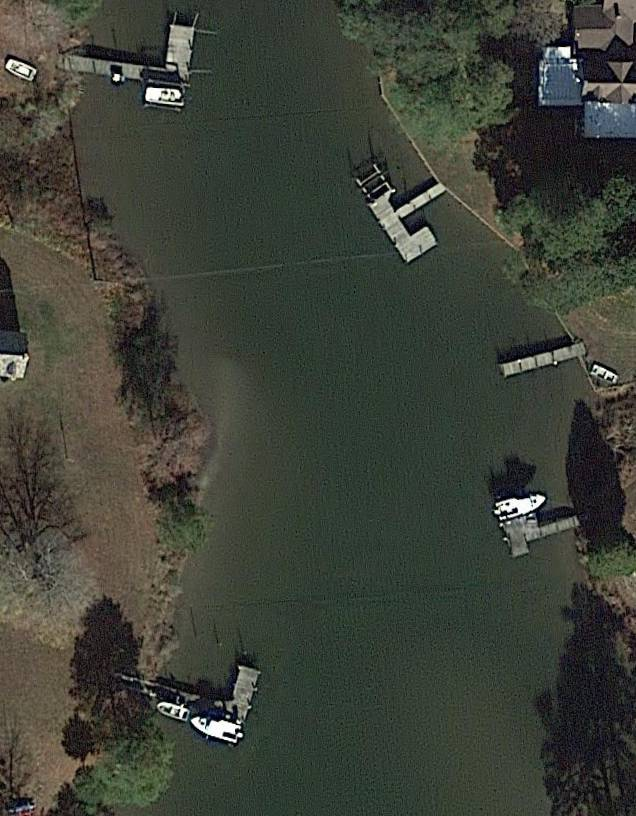harbor: (369, 166, 467, 267), (153, 645, 264, 726), (85, 16, 199, 86), (502, 499, 584, 561), (499, 344, 580, 380)
ship: (493, 486, 549, 522), (189, 712, 242, 745)
